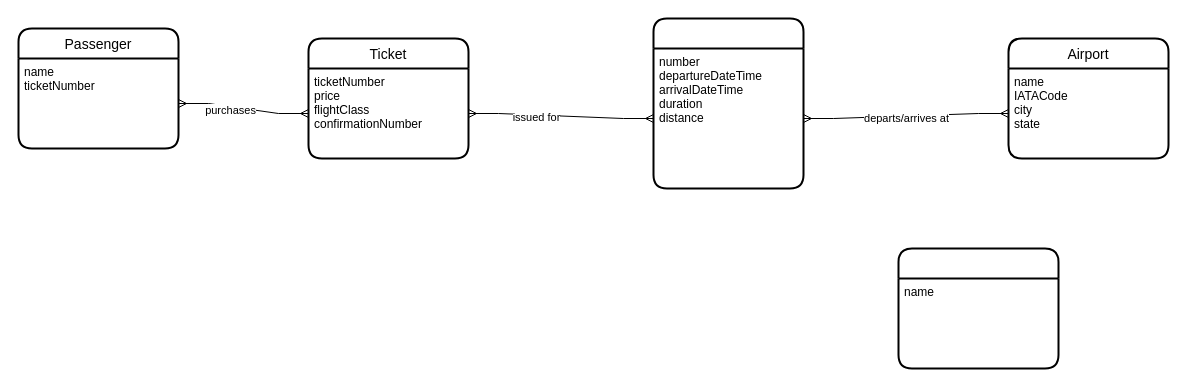
The diagram is 1186 pixels wide and 386 high, and some of its shapes have lost their labels. The shapes that lost their labels are listed below. From the top down, each one's box as (x1, y1, x2, y2) in pixels, then its label:
(652, 17, 804, 189): Flight
(897, 247, 1059, 369): Airline
